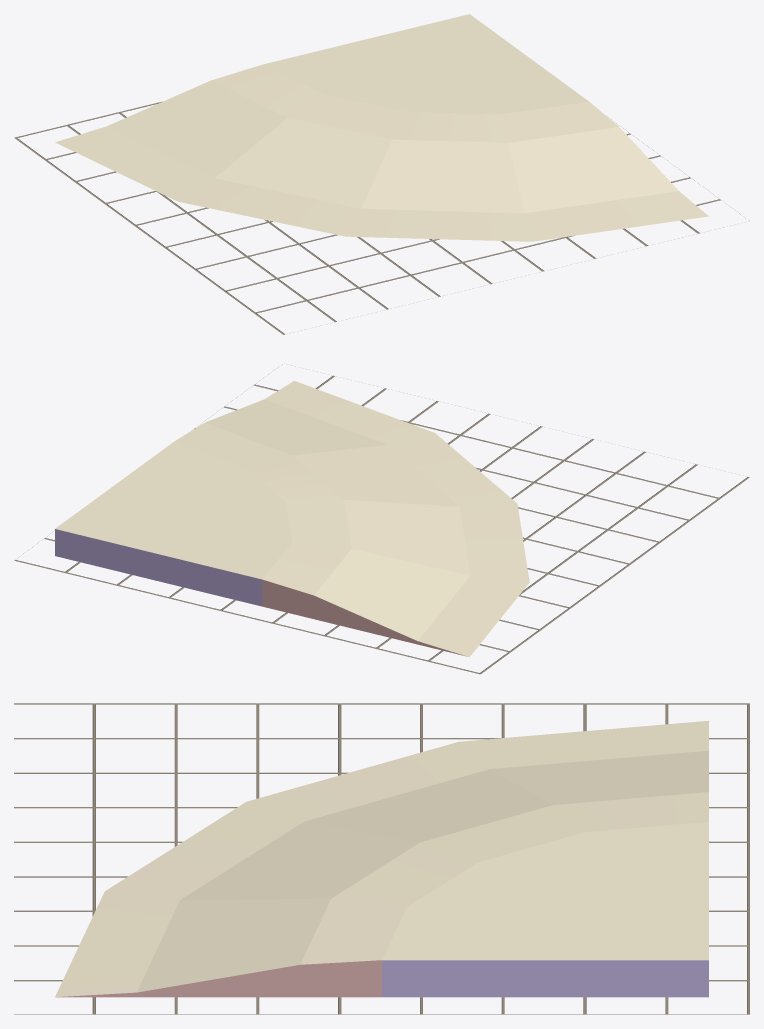
The model's file is Terrain_Sand_Incline_Curve_Outer_8x8.glb.
The picture shows the model from 3 angles, top to bottom: view 1: azimuth 30°, elevation 25°; view 2: azimuth 150°, elevation 25°; view 3: azimuth 270°, elevation 25°; orthographic projection. The views are drawn at different scales.
Visible parts, largest first — view 1: Terrain_Sand_Incline_Curve_Outer_8x8, Floor; view 2: Terrain_Sand_Incline_Curve_Outer_8x8, Floor; view 3: Terrain_Sand_Incline_Curve_Outer_8x8, Floor.
Part boxes in pixels (x1,y1,x2,y2): Terrain_Sand_Incline_Curve_Outer_8x8: (55,14,708,241); Floor: (14,101,749,334); Terrain_Sand_Incline_Curve_Outer_8x8: (55,381,529,656); Floor: (14,364,749,674); Terrain_Sand_Incline_Curve_Outer_8x8: (55,720,708,997); Floor: (14,703,749,1014).
Bounding box in the file's own units: 900 × 50 × 900.
Materials: 5 (1 with a texture image).
